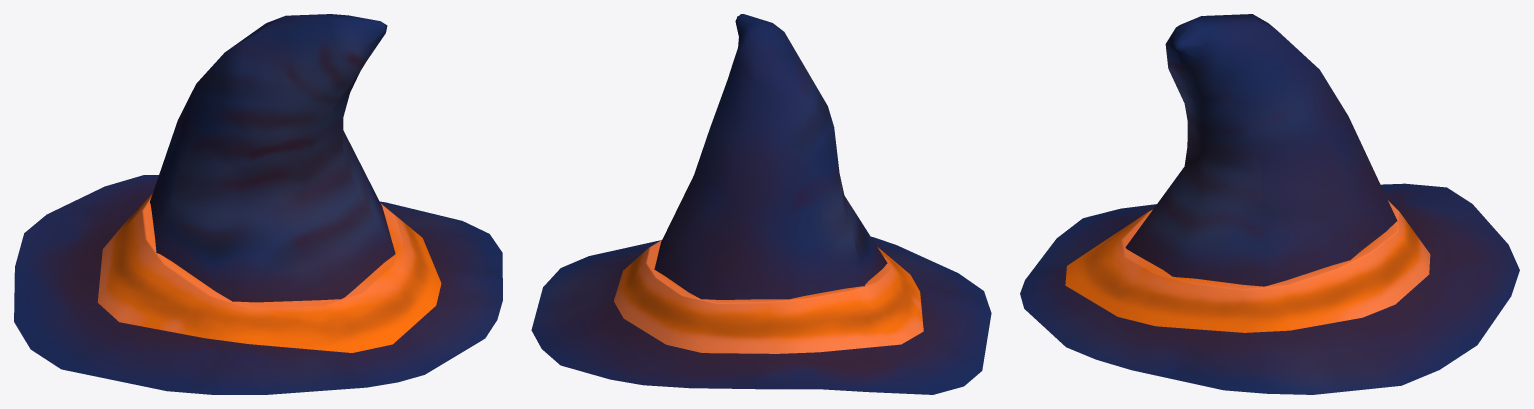
The model's file is Hat_LowPoly.fbx.
3 renders of one model, left to right at view 1: azimuth 30°, elevation 25°; view 2: azimuth 150°, elevation 25°; view 3: azimuth 270°, elevation 25°, orthographic. The views are drawn at different scales.
Parts seen in each view (by area): view 1: Hat; view 2: Hat; view 3: Hat.
Boxes of the visible parts, x1,y1,x2,y2 form: Hat: (14,14,502,394); Hat: (531,14,991,394); Hat: (1020,14,1519,394).
Bounding box in the file's own units: 174 × 112 × 169.
2 materials, 2 textured.
